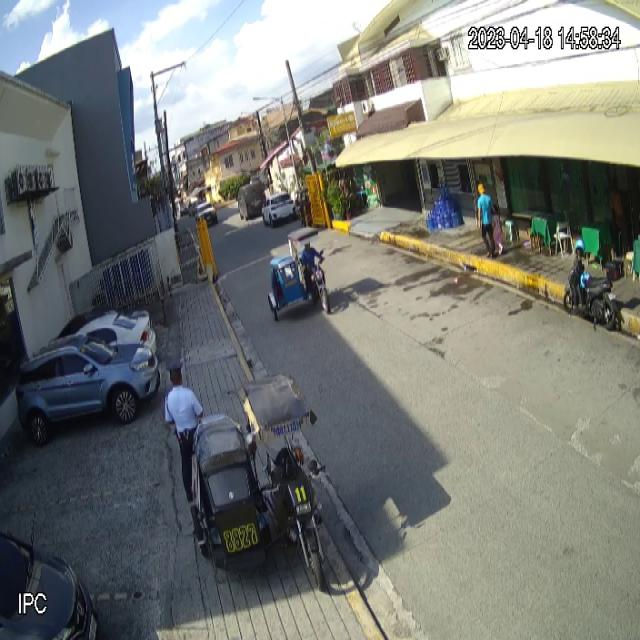Car: (16, 332, 161, 450)
Motorcycle: (563, 254, 627, 332)
Tricycle: (190, 372, 332, 594), (266, 226, 332, 324)
